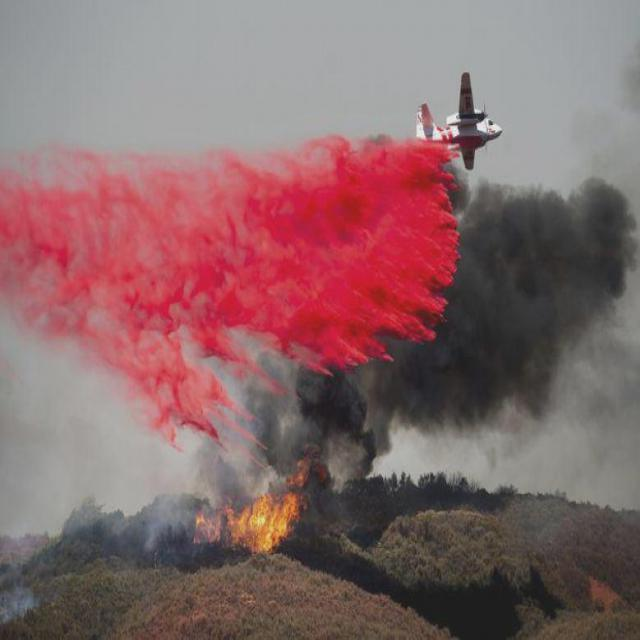Fire: (184, 470, 294, 560)
